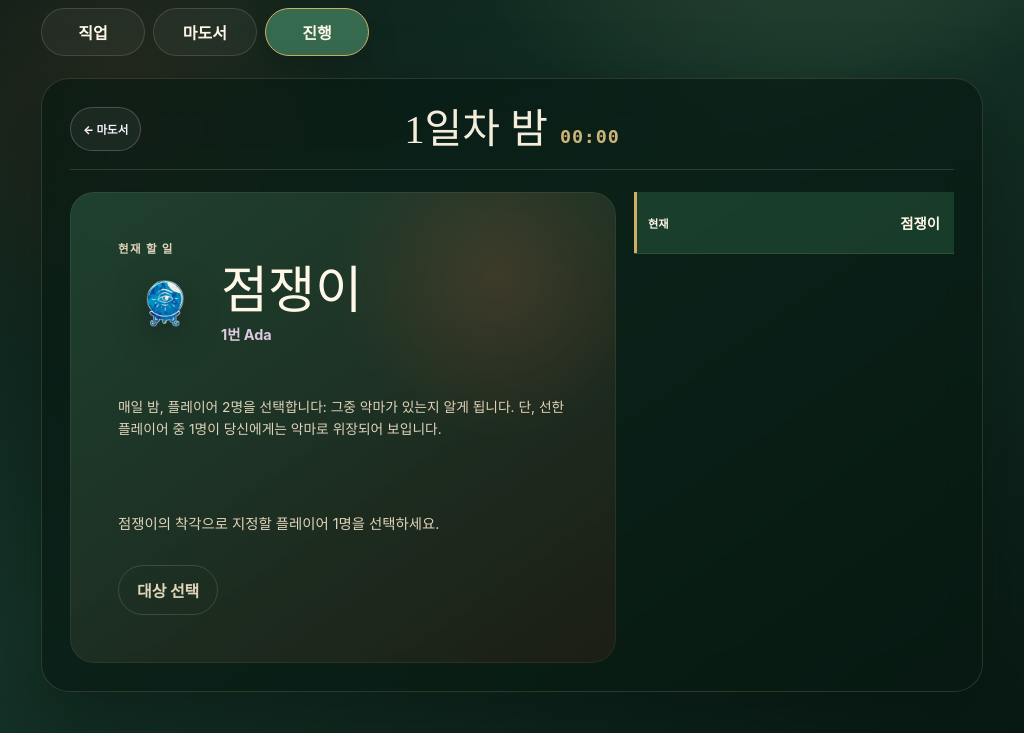
uses the approved Fortune Teller 착각 wording in the grimoire
(page scrolled)
Click the button "대상 선택": (168, 590) [118, 565, 218, 615]
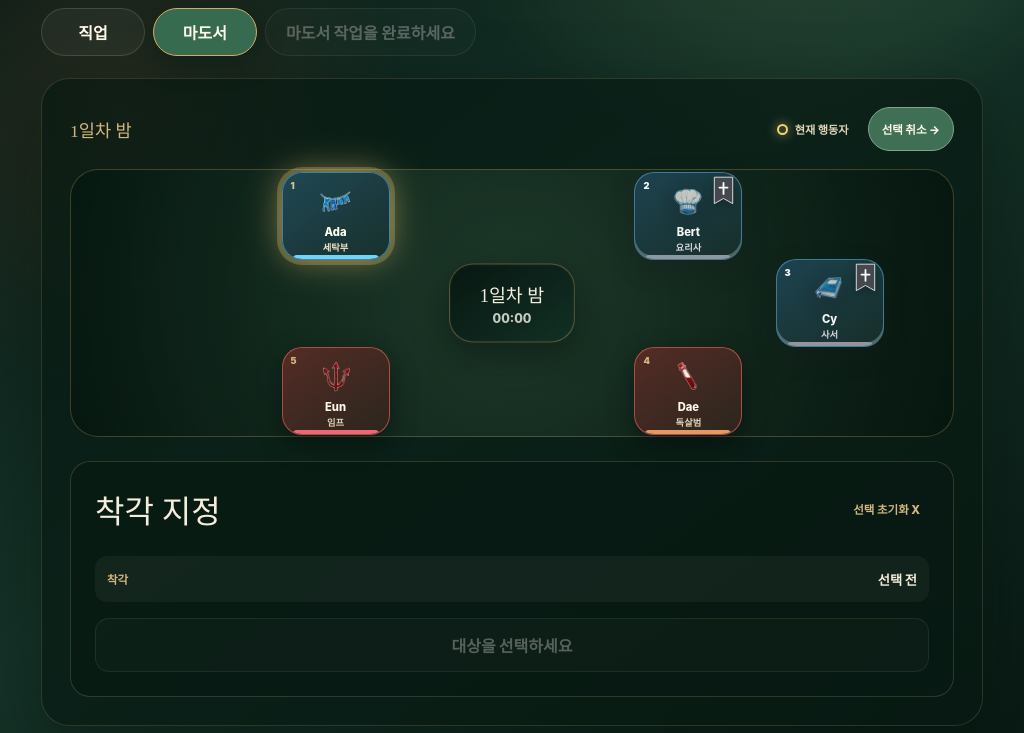
Click the button with aria-label "2번 좌석, Bert": (688, 216) [634, 172, 742, 260]
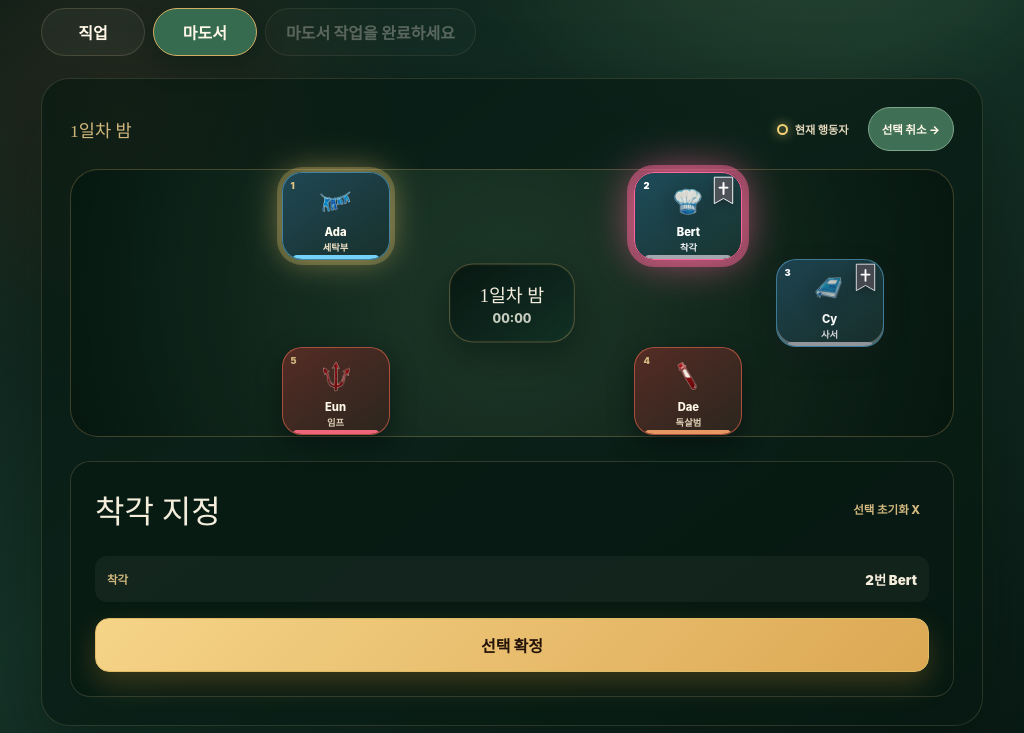
Check: the heading "착각 지정" is shown, box [95, 486, 221, 532]
Check: the text "착각" in the row of "2번 Bert" is shown, box [107, 573, 128, 587]
Check: the 1st text "착각" is shown, box [680, 242, 697, 253]
